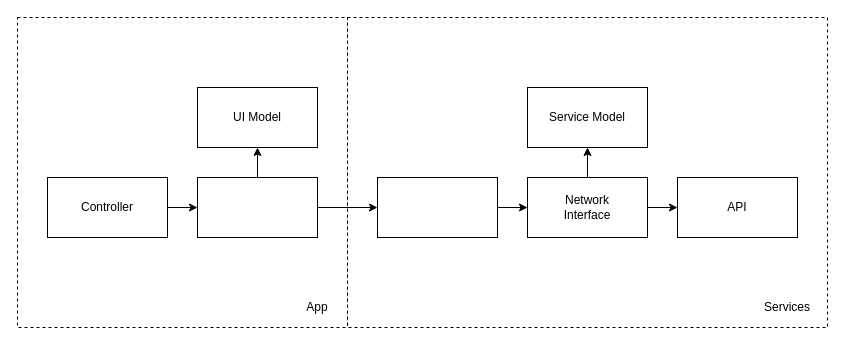
Some shapes in this 845 by 345 pixel diagram are drawn without their labels. The shapes that lost their labels are listed below. From the top down, each one's centre as x and y in pixels, then its label:
the point at 257,207: View Model
the point at 437,207: Business
